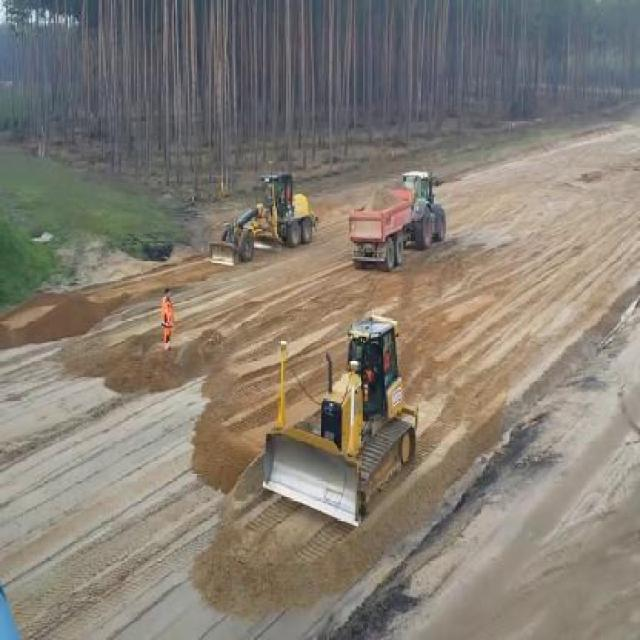dump_truck: (348, 163, 446, 269)
